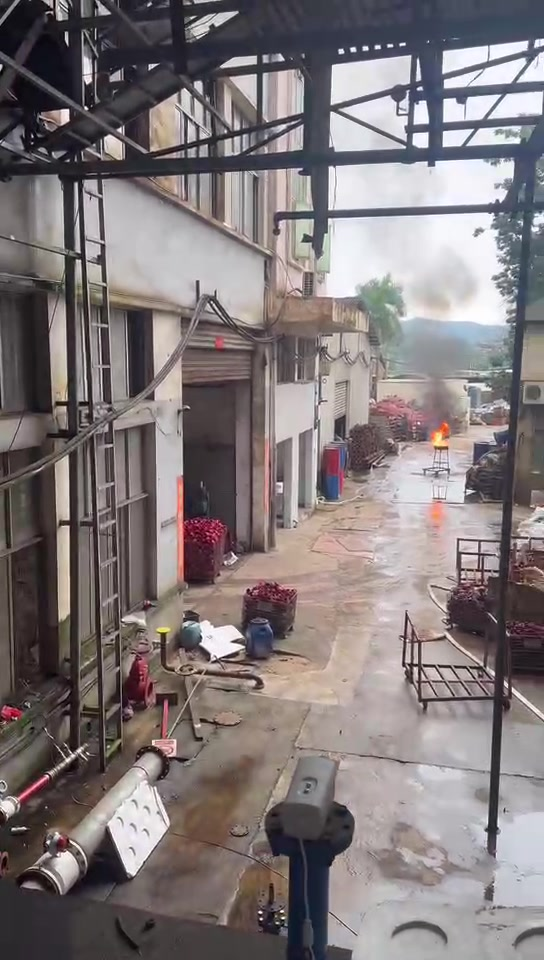fire: (432, 421, 449, 447)
